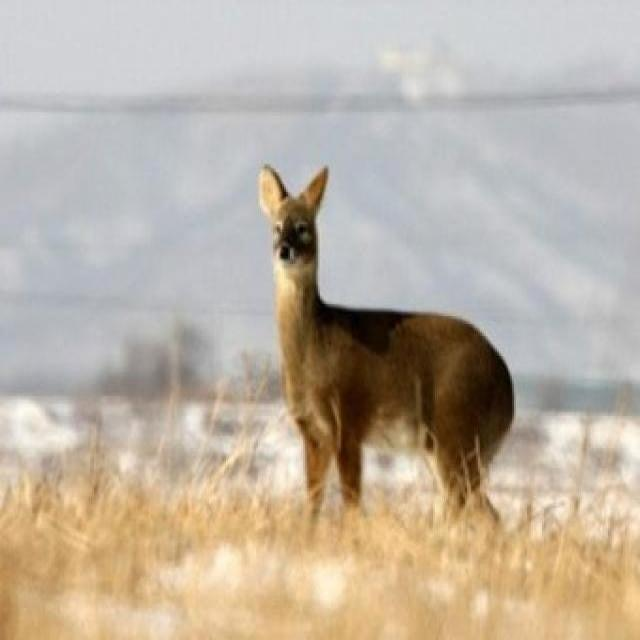deer: (215, 128, 519, 559)
